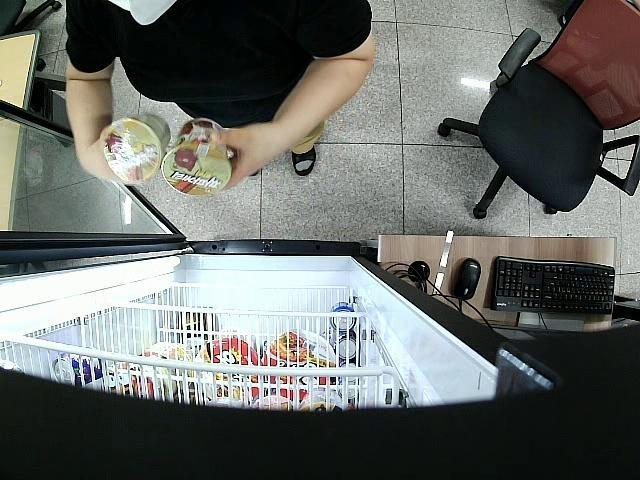04_chapagetti_S: (162, 116, 232, 194), (101, 112, 170, 182)
